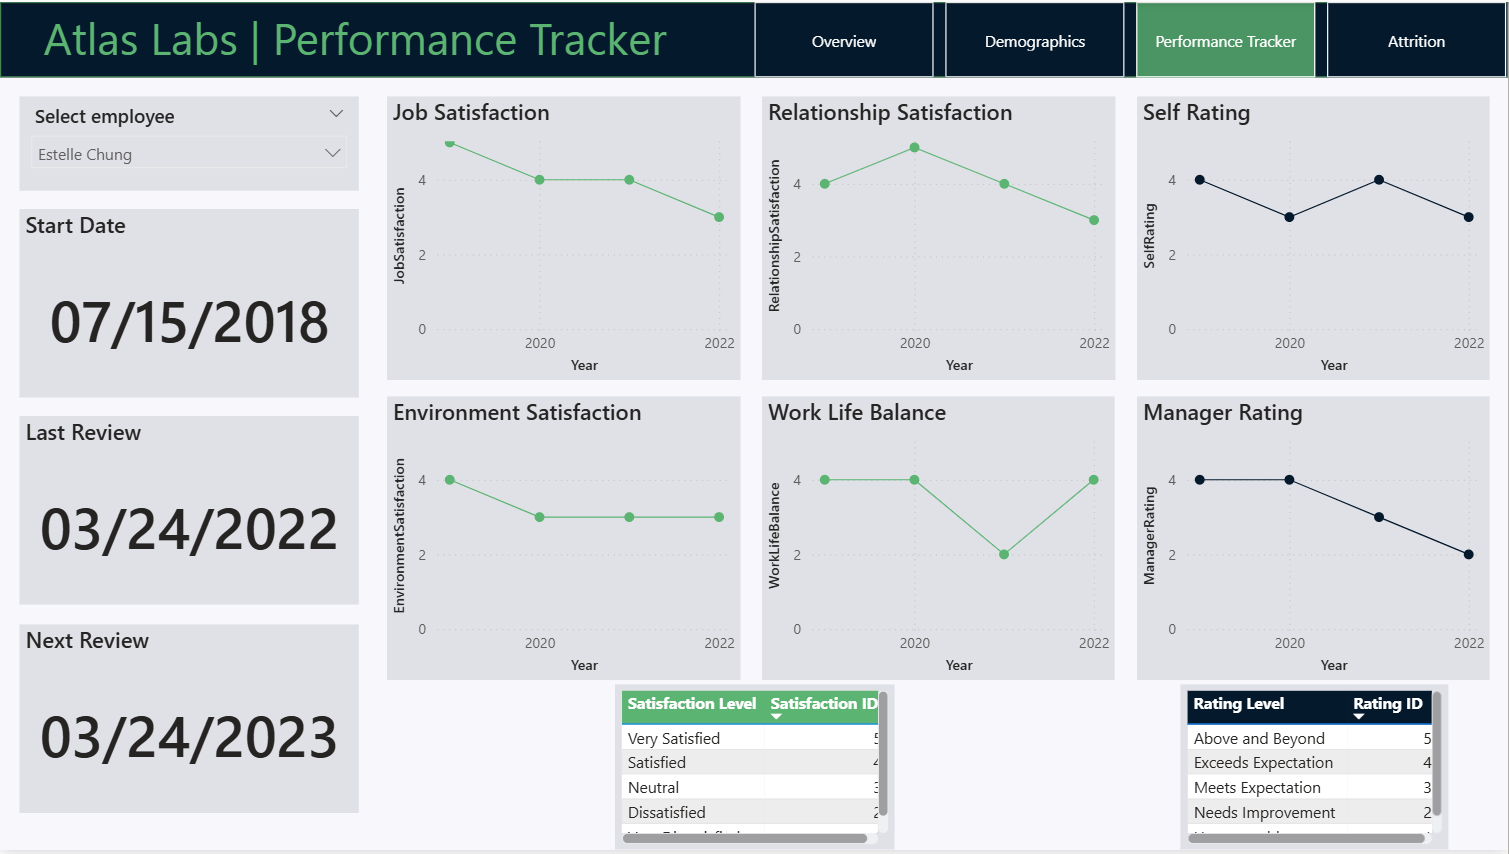

The dashboard page shown, as its layout file describes it:
{"tool":"powerbi","page":{"name":"Performance Tracker","canvas":[1280,720],"ordinal":2},"visuals":[{"type":"shape","box":[0,0,1280,64],"z":0},{"type":"textbox","box":[32,0,624,64],"z":1000},{"type":"pageNavigator","box":[640,0,640,64],"z":2000},{"type":"slicer","fields":{"Values":["DimEmployee.FullName"]},"box":[16,80,288,80],"z":3000},{"type":"card","title":"Start Date","fields":{"Values":["Min(DimEmployee.HireDate)"]},"box":[16,176,288,160],"z":4000},{"type":"card","title":"Last Review","fields":{"Values":["_Measures.LastReviewDate"]},"box":[16,352,288,160],"z":5000},{"type":"card","title":"Next Review","fields":{"Values":["_Measures.NextReviewDate"]},"box":[16,528,288,160],"z":6000},{"type":"lineChart","title":"Job Satisfaction","fields":{"Y":["_Measures.JobSatisfaction"],"Category":["DimDate.Year"]},"box":[328.3,79.8,300,240.3],"z":7000},{"type":"lineChart","title":"Relationship Satisfaction","fields":{"Y":["_Measures.RelationshipSatisfaction"],"Category":["DimDate.Year"]},"box":[646.9,79.8,300,240.3],"z":8000},{"type":"lineChart","title":"Self Rating","fields":{"Y":["_Measures.SelfRating"],"Category":["DimDate.Year"]},"box":[965.5,79.8,299.7,240.3],"z":9000},{"type":"lineChart","title":"Work Life Balance","fields":{"Y":["_Measures.WorkLifeBalance"],"Category":["DimDate.Year"]},"box":[647.4,335.5,299.7,240.3],"z":10000},{"type":"lineChart","title":"Manager Rating","fields":{"Y":["_Measures.ManagerRating"],"Category":["DimDate.Year"]},"box":[965.5,335.5,299.7,240.3],"z":11000},{"type":"lineChart","title":"Environment Satisfaction","fields":{"Y":["_Measures.EnvironmentSatisfaction"],"Category":["DimDate.Year"]},"box":[328.3,335.5,300,240.3],"z":12000},{"type":"tableEx","fields":{"Values":["DimRatingLevel.RatingLevel","DimRatingLevel.RatingID"]},"box":[1002.3,579.9,227,140.1],"z":13000},{"type":"tableEx","fields":{"Values":["DimSatisfiedLevel.SatisfactionLevel","DimSatisfiedLevel.SatisfactionID"]},"box":[521.6,579.9,237.3,140.1],"z":14000}]}

Visuals, with their boxes in screenshot pixels (x1, y1, x2, y2), scaled from the page's 1280x720 canvas onto the 1509x854 screenshot:
shape: locate(0, 0, 1508, 76)
textbox: locate(38, 0, 773, 76)
pageNavigator: locate(754, 0, 1508, 76)
slicer - DimEmployee.FullName: locate(19, 95, 358, 190)
"Start Date" card: locate(19, 209, 358, 399)
"Last Review" card: locate(19, 418, 358, 607)
"Next Review" card: locate(19, 626, 358, 816)
"Job Satisfaction" lineChart: locate(387, 95, 741, 380)
"Relationship Satisfaction" lineChart: locate(763, 95, 1116, 380)
"Self Rating" lineChart: locate(1138, 95, 1492, 380)
"Work Life Balance" lineChart: locate(763, 398, 1117, 683)
"Manager Rating" lineChart: locate(1138, 398, 1492, 683)
"Environment Satisfaction" lineChart: locate(387, 398, 741, 683)
tableEx - DimRatingLevel.RatingLevel x DimRatingLevel.RatingID: locate(1182, 688, 1449, 853)
tableEx - DimSatisfiedLevel.SatisfactionLevel x DimSatisfiedLevel.SatisfactionID: locate(615, 688, 895, 853)
